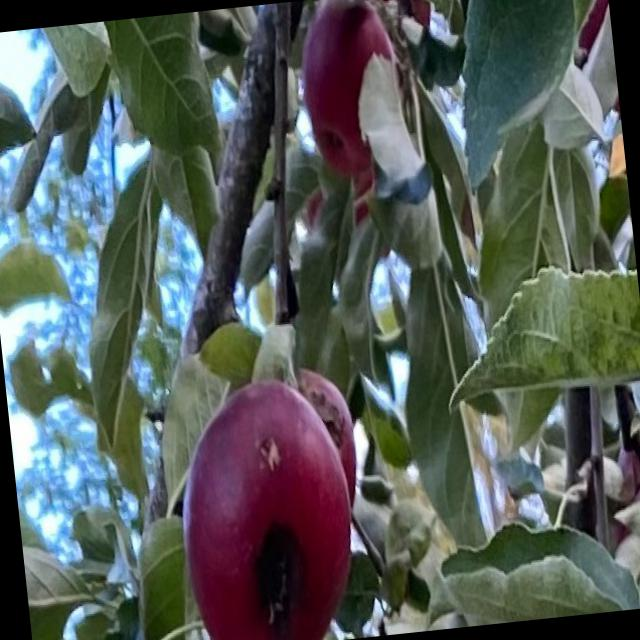Apples: (167, 374, 363, 639), (296, 0, 406, 179), (292, 361, 362, 514)
